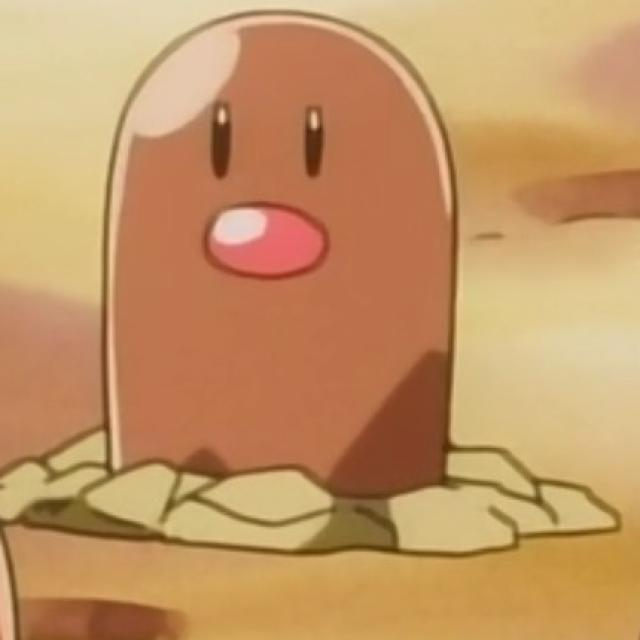Diglett: (106, 17, 456, 492)
